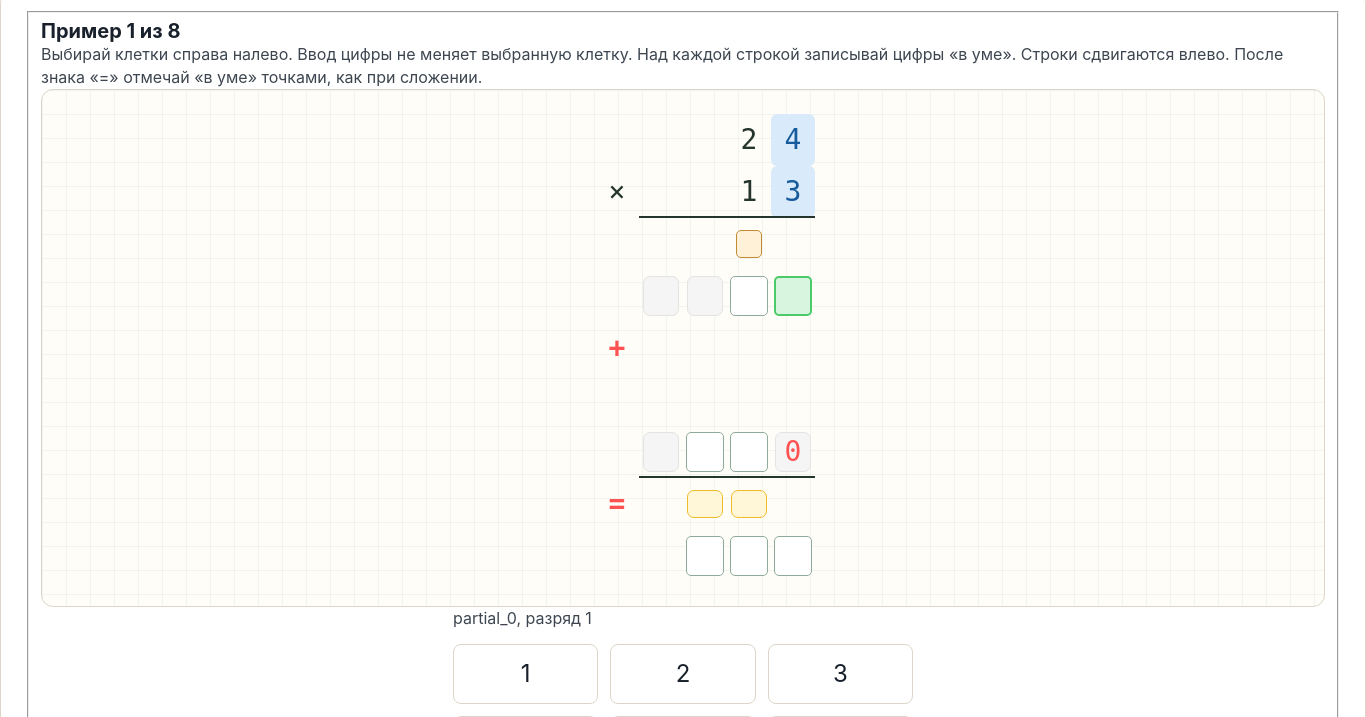
Test case: toggles final addition memos as dots without changing the selected answer or numeric multiplication carries
Expected: the button named "Сложение строк: в уме из разряда 1" is disabled, top-left (731, 490), bottom-right (767, 518)
Expected: the field named "mulcarry_0_0, разряд 1" is shown, top-left (736, 230), bottom-right (762, 258)
Focus the field named "answer, разряд 1" at (793, 556), box top-left (774, 536), bottom-right (812, 576)
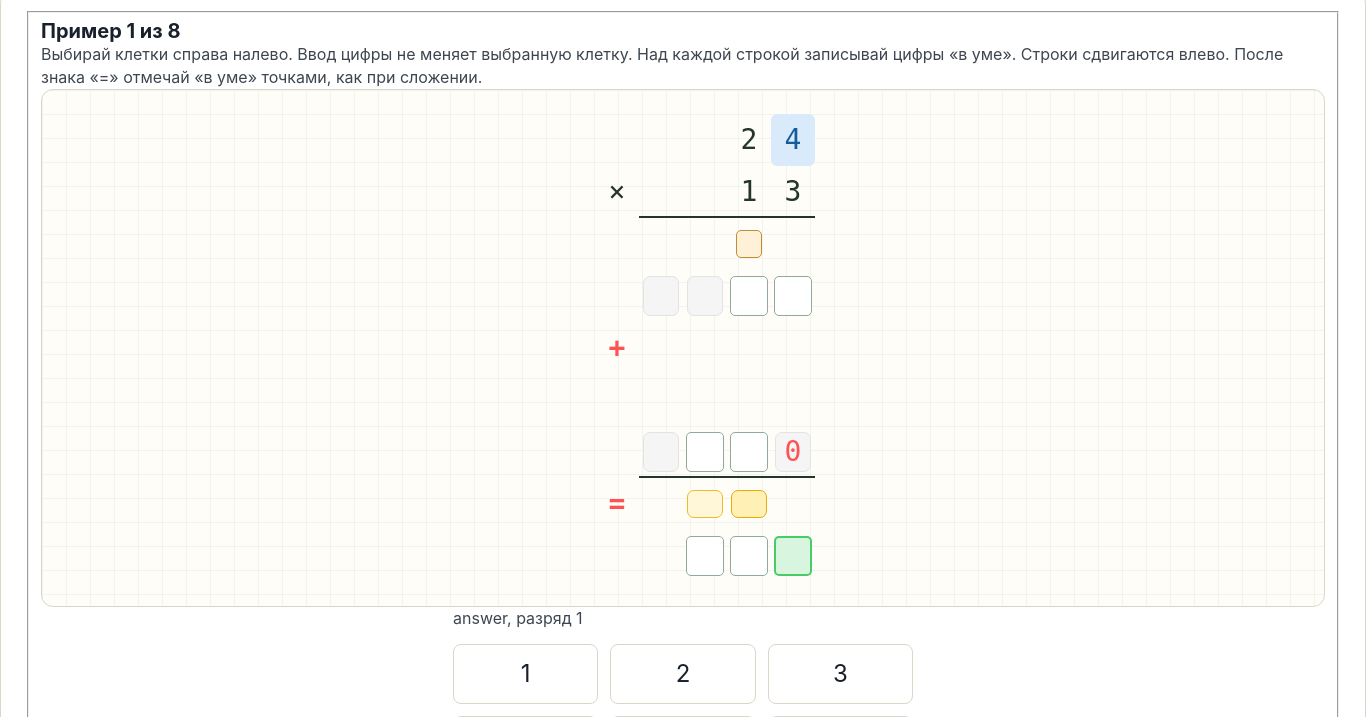
Expected: the button named "Сложение строк: в уме из разряда 1" is enabled
Click the button named "Сложение строк: в уме из разряда 1" at (749, 504), box top-left (731, 490), bottom-right (767, 518)
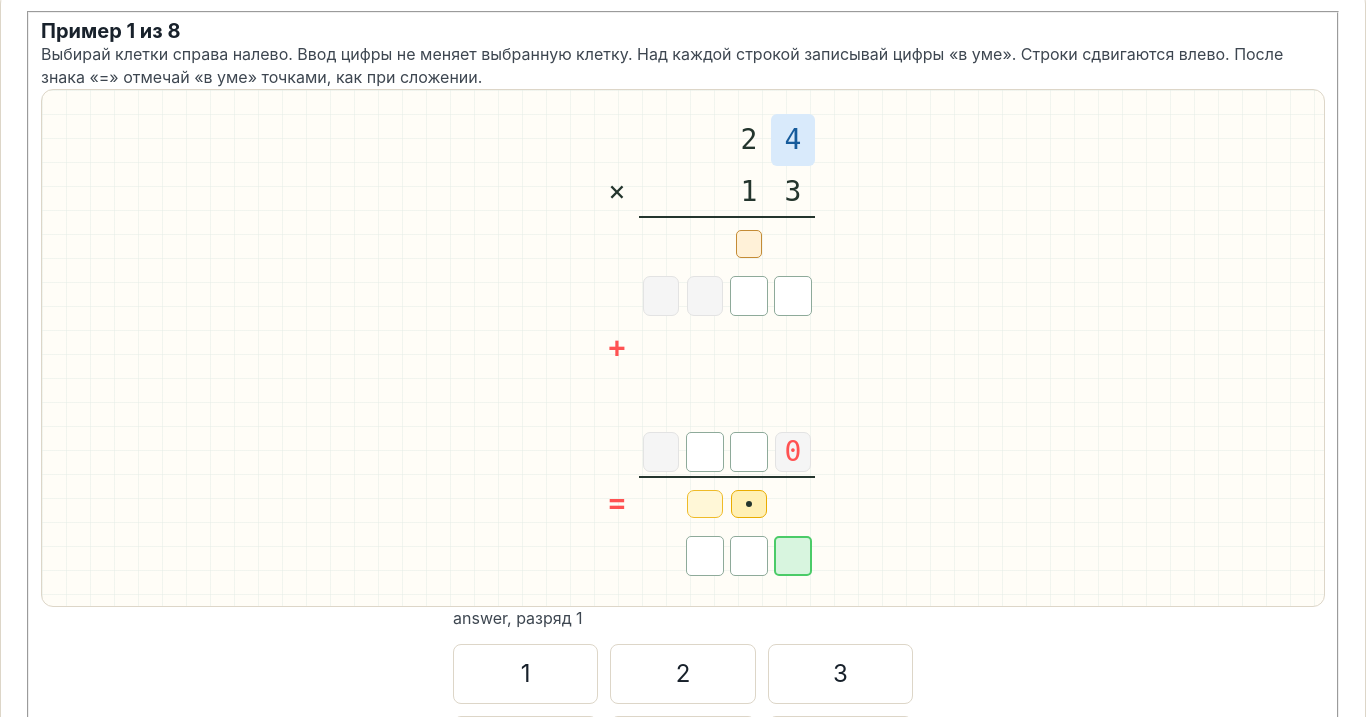
Expected: the button named "Сложение строк: в уме из разряда 1" is pressed
Click the button named "Сложение строк: в уме из разряда 1" at (749, 504), box top-left (731, 490), bottom-right (767, 518)
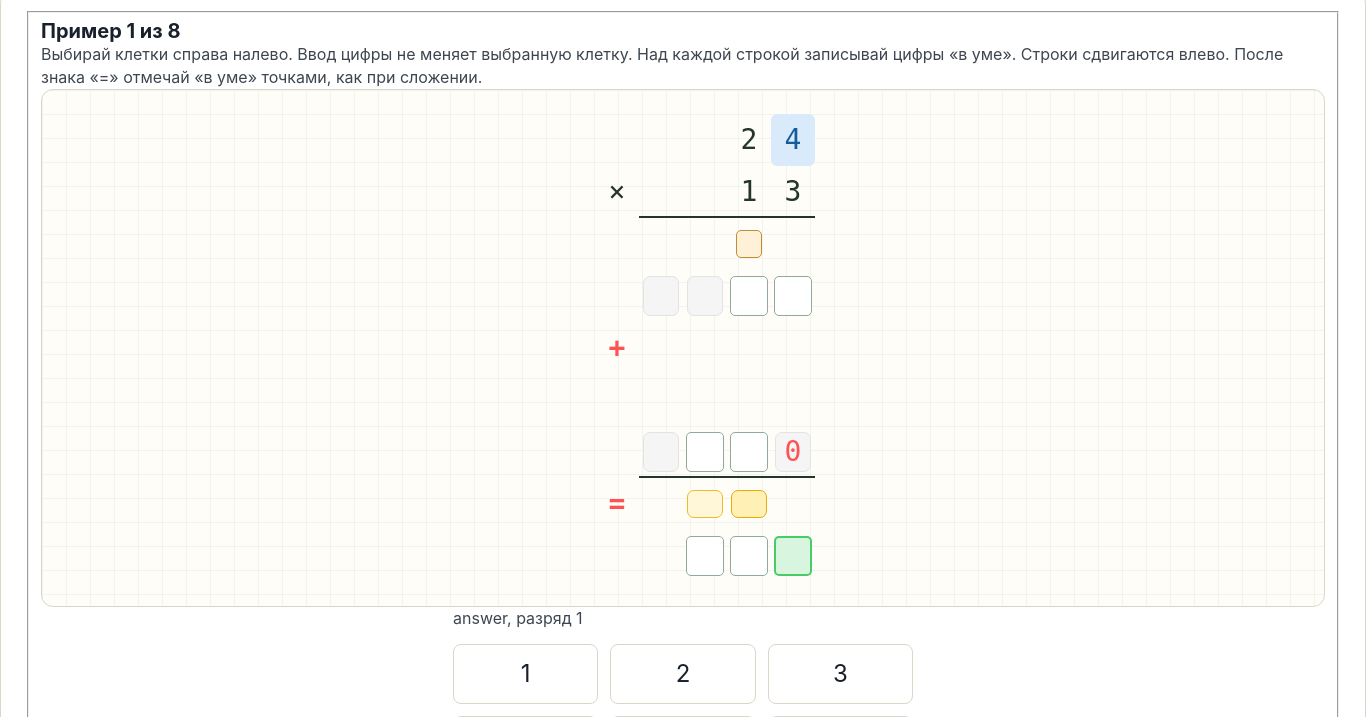
Expected: the button named "Сложение строк: в уме из разряда 1" is not pressed
Click the button named "Сложение строк: в уме из разряда 1" at (749, 504), box top-left (731, 490), bottom-right (767, 518)
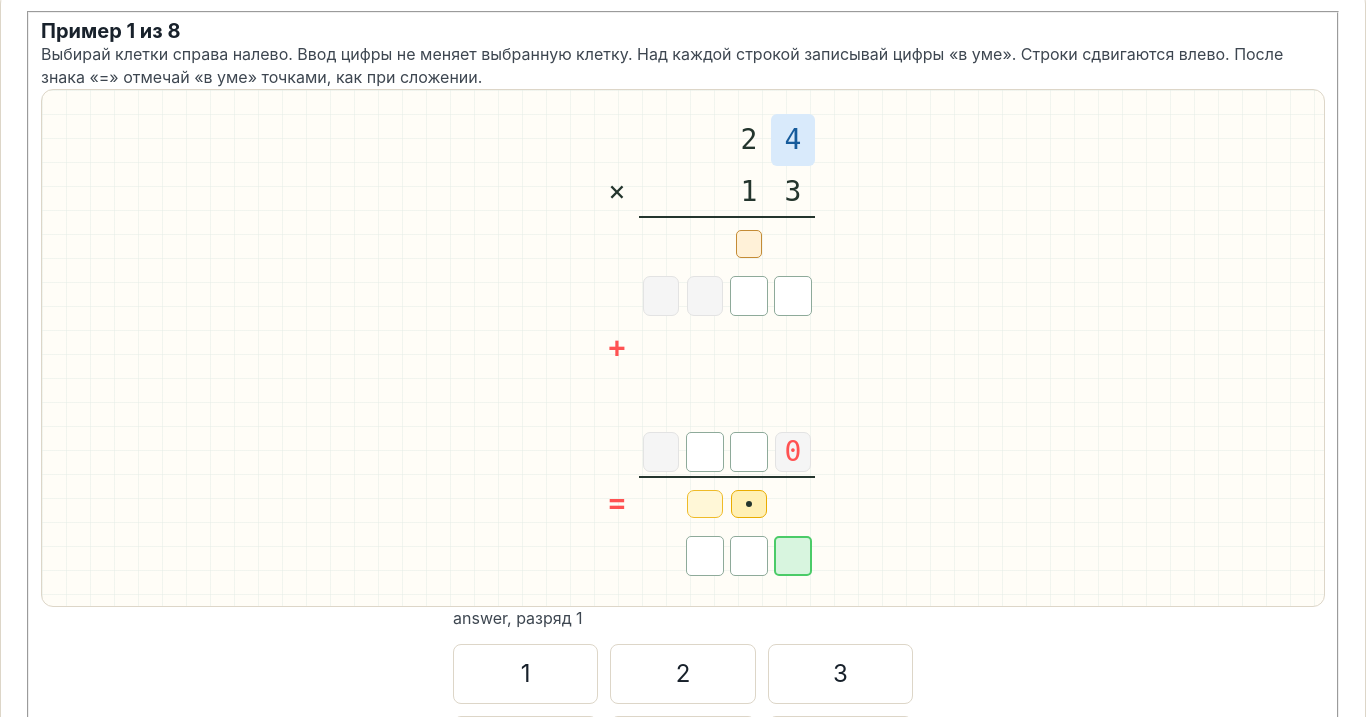
Click the button "2" at (683, 674), box top-left (610, 644), bottom-right (756, 704)
(page scrolled)
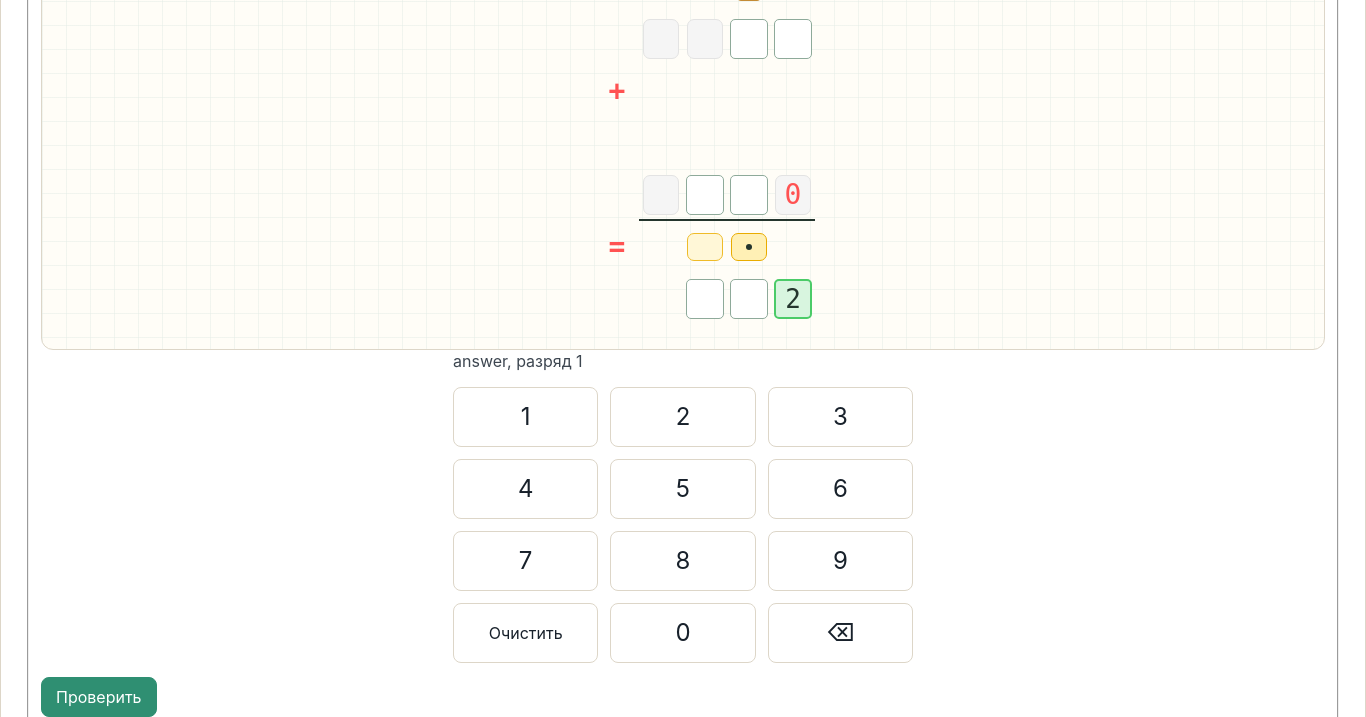
Expected: the field named "answer, разряд 1" holds "2", top-left (774, 279), bottom-right (812, 319)
Click the button "Очистить" at (526, 633), box top-left (453, 603), bottom-right (598, 663)
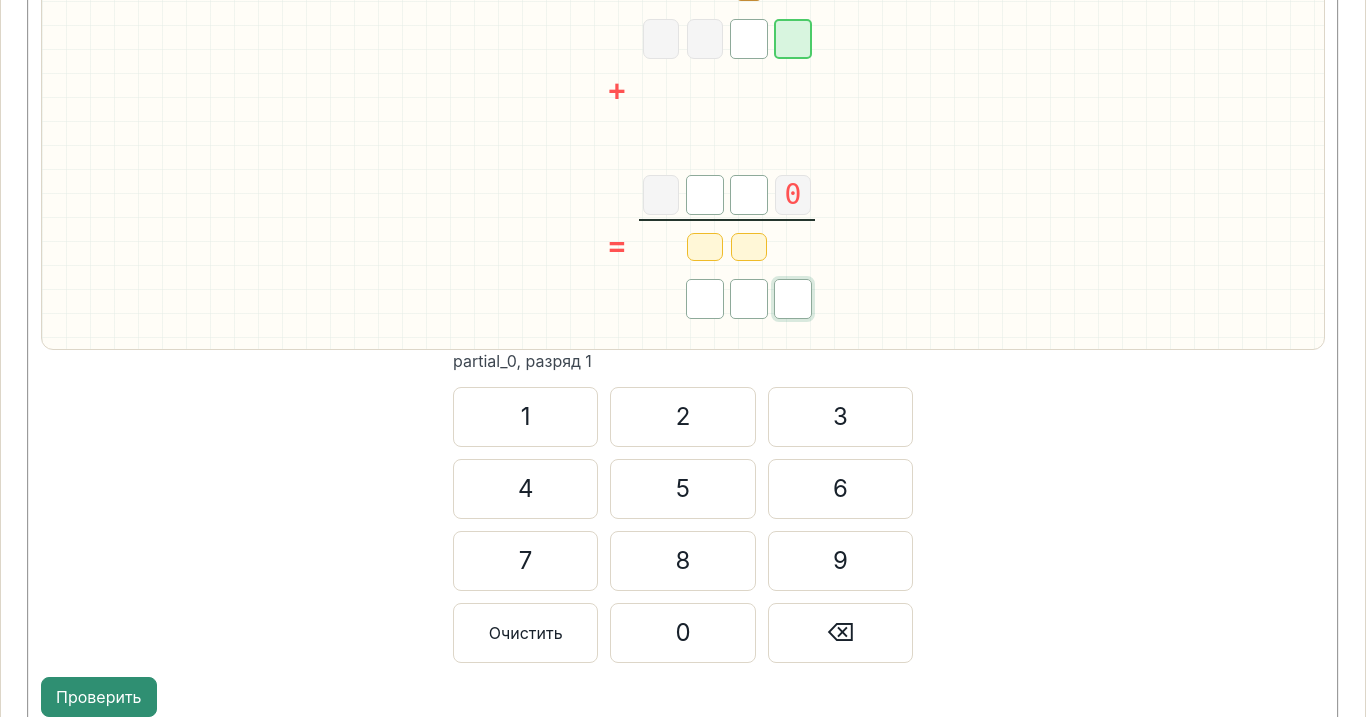
Expected: the field named "answer, разряд 1" is empty, top-left (774, 279), bottom-right (812, 319)
